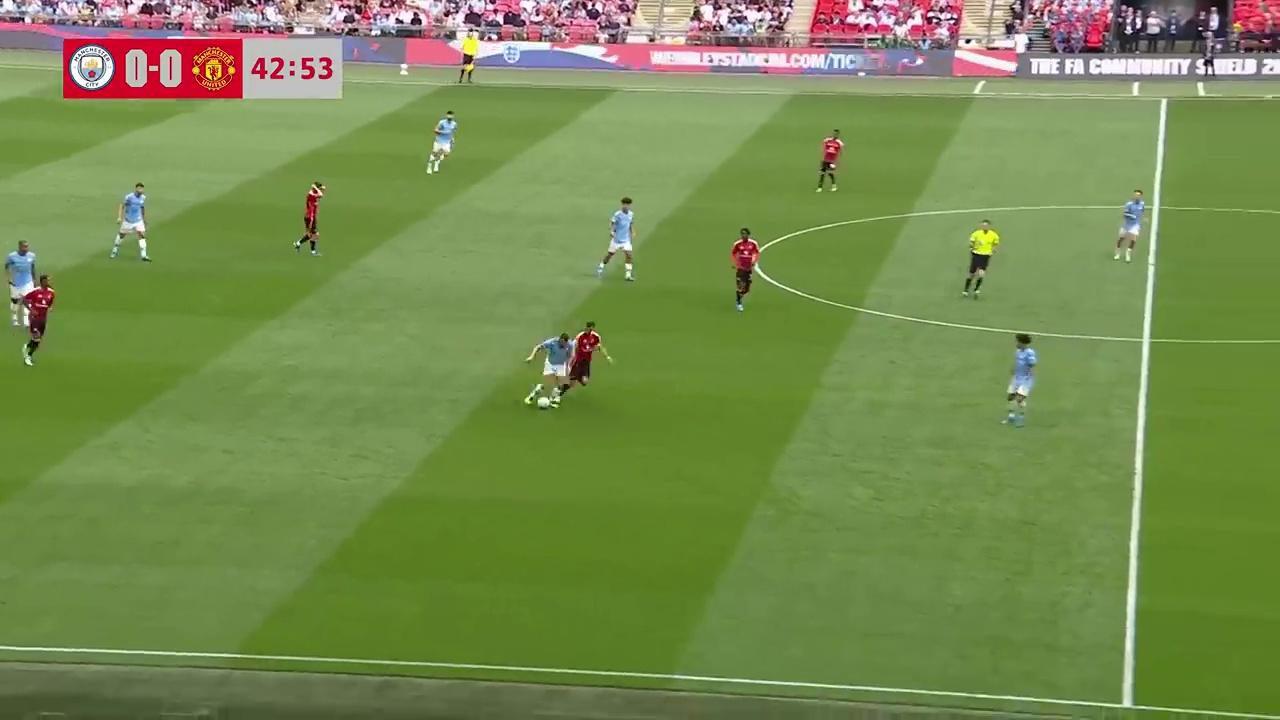ball: (535, 393, 551, 409)
player: (556, 321, 612, 403), (1001, 333, 1038, 426), (109, 181, 152, 261), (596, 197, 636, 283), (524, 333, 567, 409), (21, 273, 54, 365), (4, 240, 39, 325), (730, 227, 760, 312), (294, 181, 327, 256), (1113, 189, 1147, 261), (426, 110, 457, 174), (815, 129, 844, 193)
referee: (961, 219, 1000, 298), (456, 32, 479, 85)
